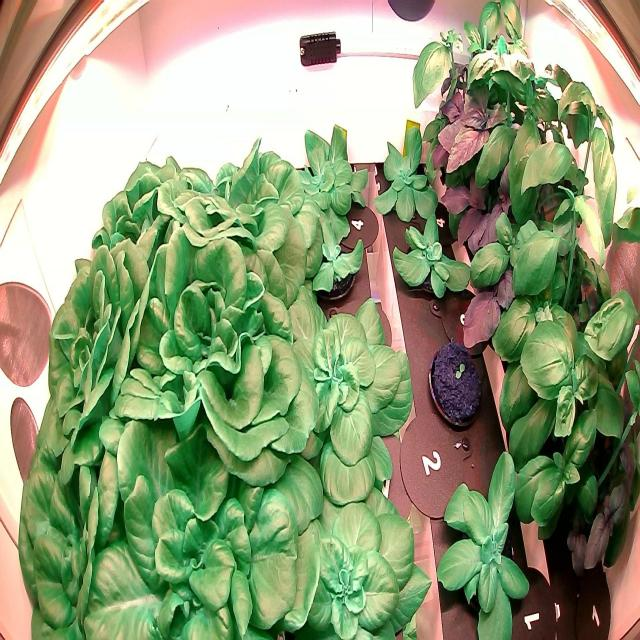Ready: (99, 206, 323, 475), (78, 399, 319, 640), (11, 410, 165, 640), (33, 236, 169, 464), (152, 122, 319, 270), (91, 139, 197, 291)
germination: (425, 328, 488, 436)
young: (276, 294, 417, 523), (432, 441, 540, 638), (297, 499, 434, 639), (368, 112, 452, 236), (390, 206, 479, 306), (297, 112, 375, 226), (302, 198, 371, 302)
